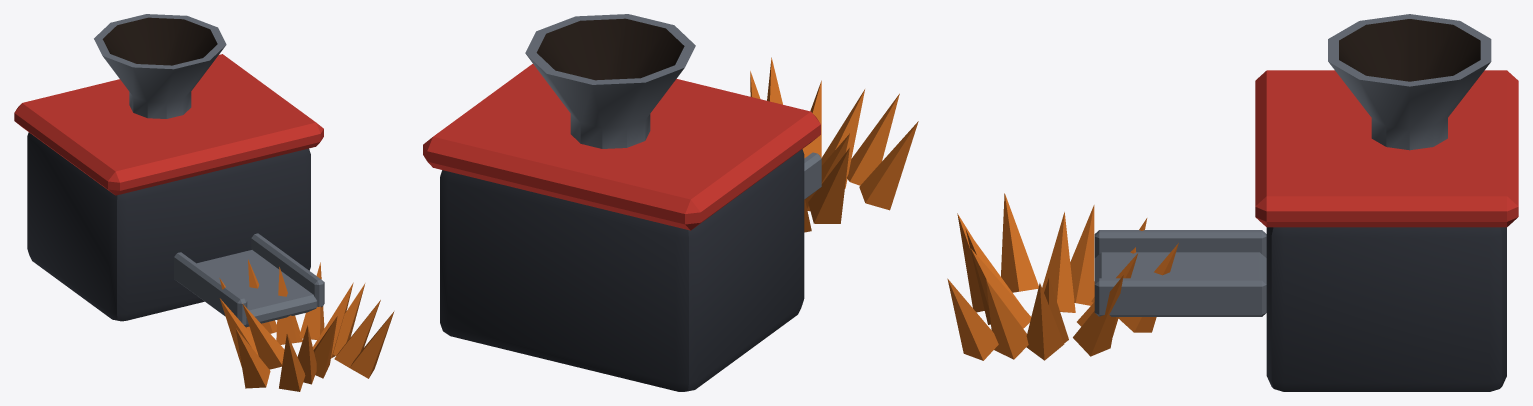
The picture shows the model from 3 angles, left to right: view 1: azimuth 30°, elevation 25°; view 2: azimuth 150°, elevation 25°; view 3: azimuth 270°, elevation 25°; orthographic projection. The views are drawn at different scales.
Parts seen in each view (by area): view 1: espinhos_0_base; view 2: espinhos_0_base; view 3: espinhos_0_base.
Part boxes in pixels (box(x1,y1,x2,y2)): espinhos_0_base: box(14, 14, 394, 391); espinhos_0_base: box(423, 14, 918, 391); espinhos_0_base: box(947, 14, 1518, 391).
Bounding box in the file's own units: 0.56 × 0.55 × 0.9975.
